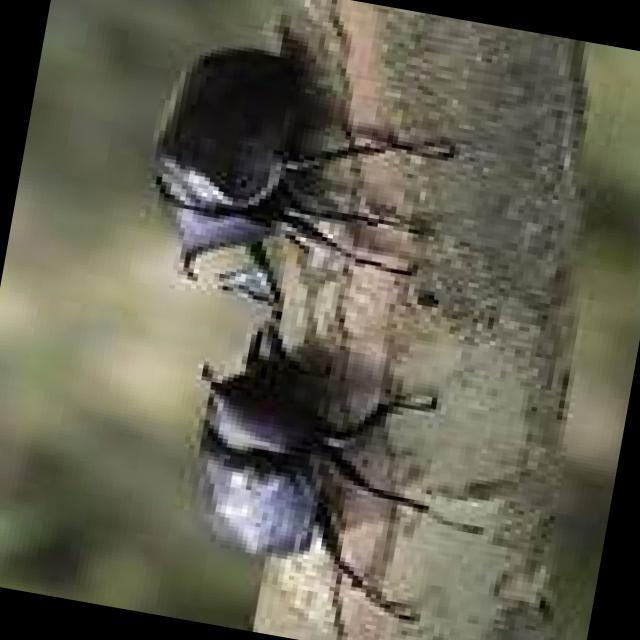Rhino-beetle: (85, 32, 398, 298), (148, 322, 392, 618)
